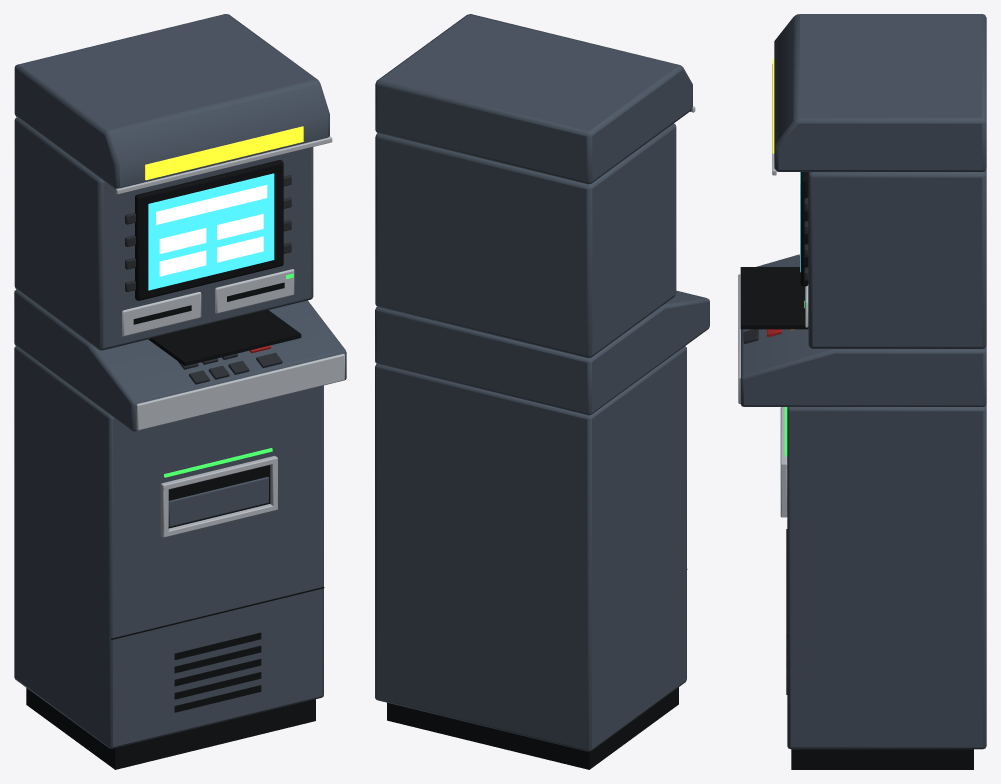
Rendered from atm.glb.
3 views of the same model, side by side, from view 1: azimuth 30°, elevation 25°; view 2: azimuth 150°, elevation 25°; view 3: azimuth 270°, elevation 25° (orthographic). The views are drawn at different scales.
Visible parts, largest first — view 1: atm_atm_body, atm_atm_dark, atm_atm_steel, atm_screen, atm_screen_ui, atm_glow, atm_atm_key; view 2: atm_atm_body, atm_atm_dark; view 3: atm_atm_body, atm_atm_dark, atm_atm_steel, atm_atm_key.
Boxes of the visible parts, left/top/right/bottom form: atm_atm_body: left=14, top=14, right=346, bottom=748; atm_atm_dark: left=26, top=160, right=324, bottom=769; atm_atm_steel: left=115, top=136, right=344, bottom=537; atm_screen: left=148, top=173, right=274, bottom=290; atm_screen_ui: left=156, top=185, right=267, bottom=276; atm_glow: left=145, top=126, right=303, bottom=180; atm_atm_key: left=125, top=175, right=291, bottom=384; atm_atm_body: left=375, top=14, right=709, bottom=751; atm_atm_dark: left=387, top=569, right=687, bottom=769; atm_atm_body: left=740, top=14, right=986, bottom=749; atm_atm_dark: left=740, top=172, right=973, bottom=769; atm_atm_steel: left=738, top=64, right=808, bottom=517; atm_atm_key: left=743, top=198, right=808, bottom=343.
Bounding box in the file's own units: 0.6001 × 1.7 × 0.585.
